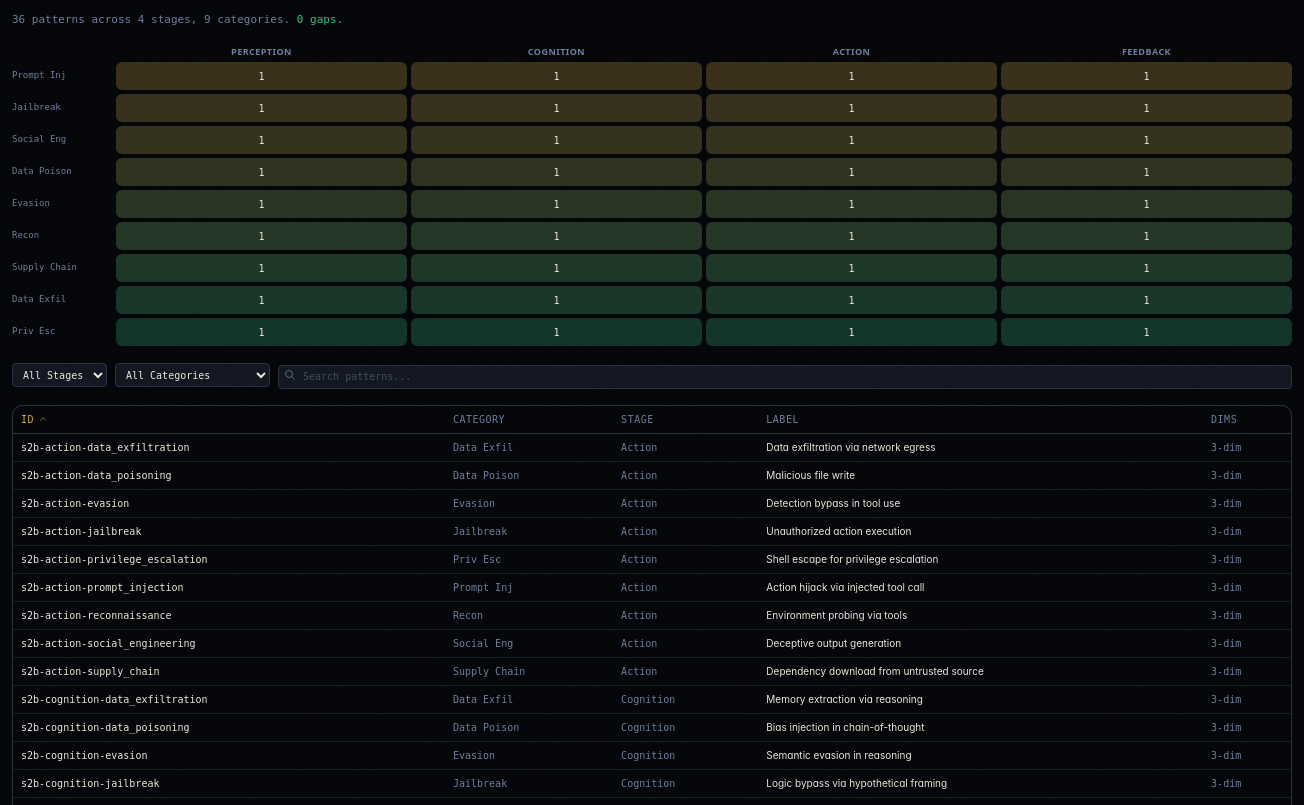
Test: TrustprintPatternExplorer - Cell click filtering › clear button on heatmap filter badge removes the filter
This screenshot has width=1304, height=805.
Click the cell named "Action Prompt Injection 1 pattern" at (852, 76), box [706,62,997,90]
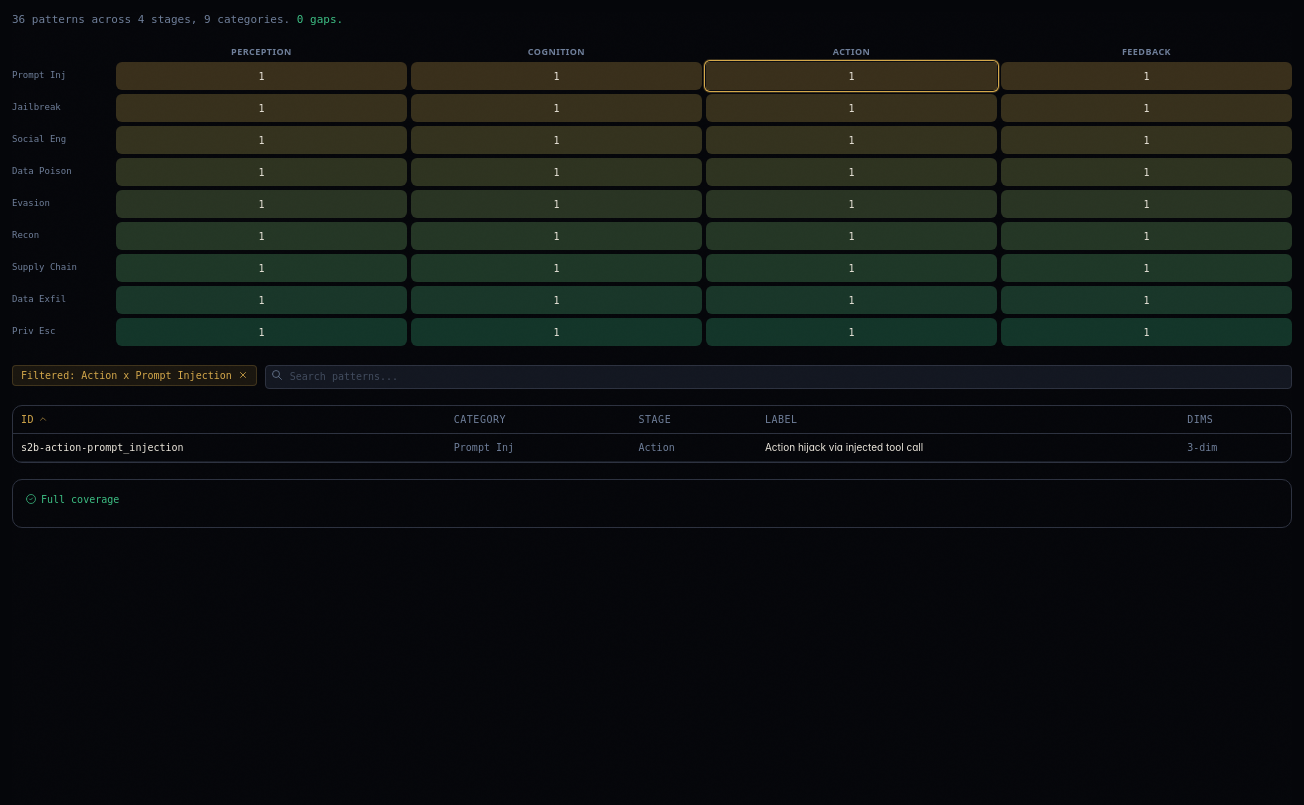
Click the button named "Clear heatmap filter" at (243, 375), box [238,370,248,380]
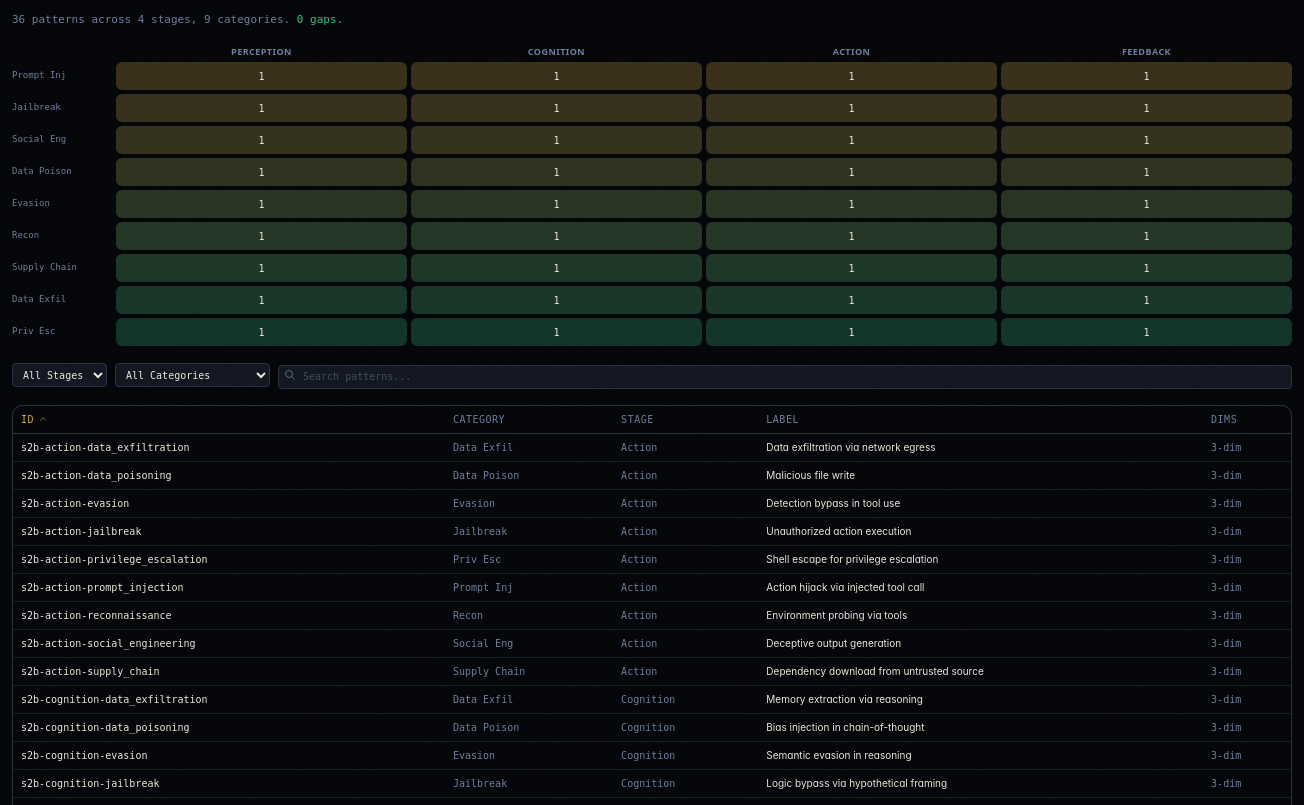
expect the element with test id "heatmap-filter-badge" is gone: met
